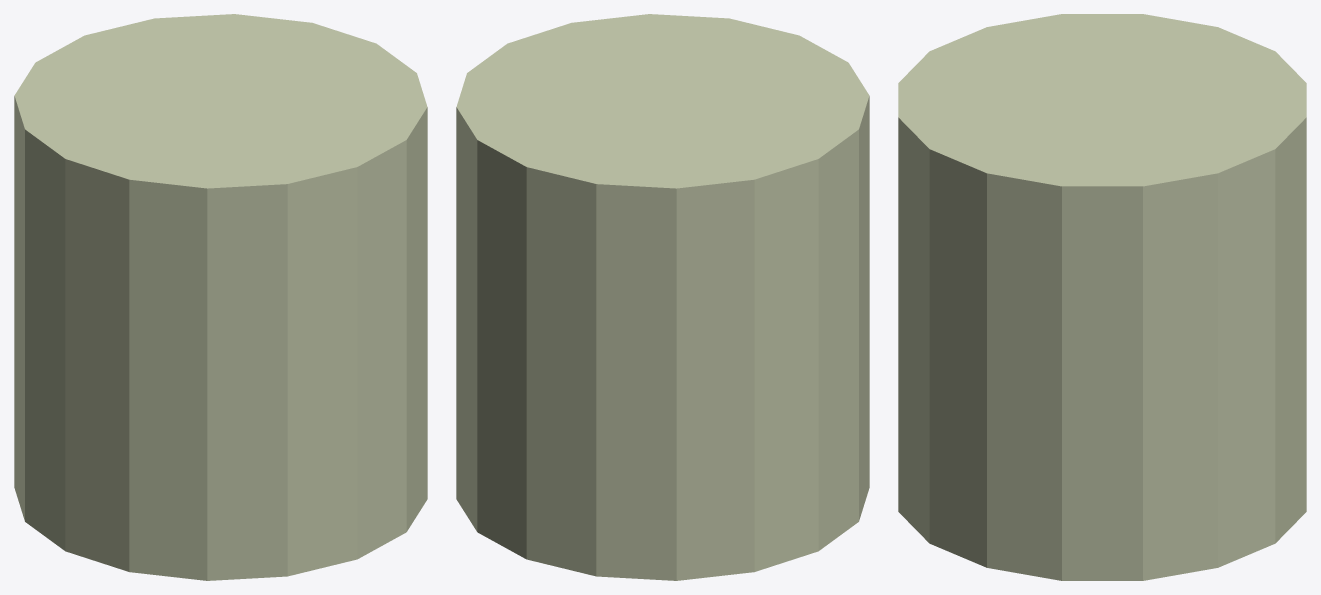
The model's file is chara_lv_fuel_tank_s0p5_1_collider.obj.
3 renders of one model, left to right at view 1: azimuth 30°, elevation 25°; view 2: azimuth 150°, elevation 25°; view 3: azimuth 270°, elevation 25°, orthographic.
Visible parts, largest first — view 1: chara_lv_fuel_tank_s0p5_1_collider; view 2: chara_lv_fuel_tank_s0p5_1_collider; view 3: chara_lv_fuel_tank_s0p5_1_collider.
Boxes of the visible parts, box(x1,y1,x2,y2) form: chara_lv_fuel_tank_s0p5_1_collider: box(14, 14, 427, 580); chara_lv_fuel_tank_s0p5_1_collider: box(456, 14, 869, 580); chara_lv_fuel_tank_s0p5_1_collider: box(898, 14, 1306, 580).
Size of the model in its own units: 0.9375 by 1 by 0.9375.
